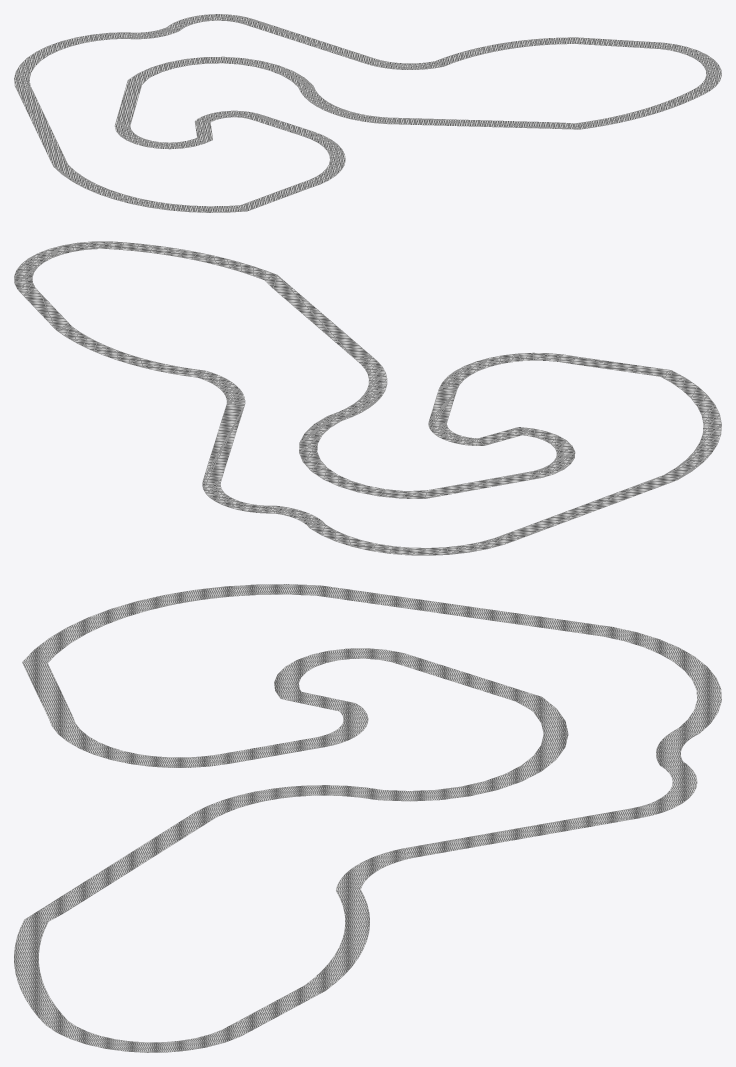
Rendered from NewTrack1.dae.
The picture shows the model from 3 angles, top to bottom: view 1: azimuth 30°, elevation 25°; view 2: azimuth 150°, elevation 25°; view 3: azimuth 270°, elevation 25°; orthographic projection. The views are drawn at different scales.
Visible parts, largest first — view 1: SketchUp; view 2: SketchUp; view 3: SketchUp.
Part boxes in pixels (left/top/right/bottom): SketchUp: left=14, top=14, right=721, bottom=212; SketchUp: left=14, top=241, right=721, bottom=555; SketchUp: left=14, top=584, right=721, bottom=1052.
Bounding box in the file's own units: 35044 × 22369 × 0.
1 material, 1 textured.
